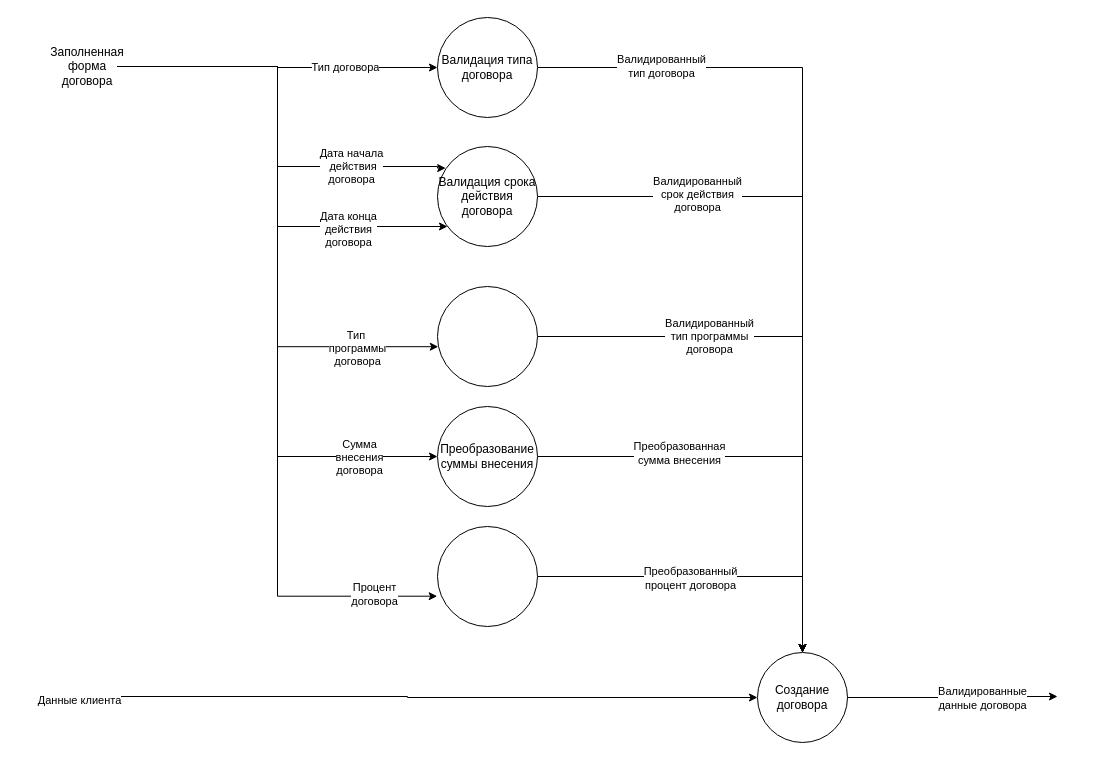
Some shapes in this 1114 by 760 pixel diagram are drawn without their labels. The shapes that lost their labels are listed below. From the top down, each one's box as (x1, y1, x2, y2) in pixels, then its label:
(436, 286, 538, 386): Валидация программы договора
(436, 526, 538, 626): Преобразование процента в договоре
